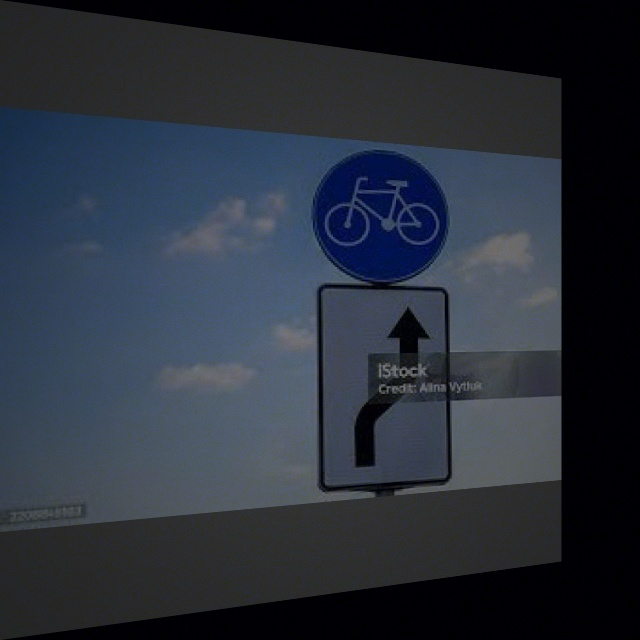Compulsory_Cycle_Track: (312, 145, 451, 282)
